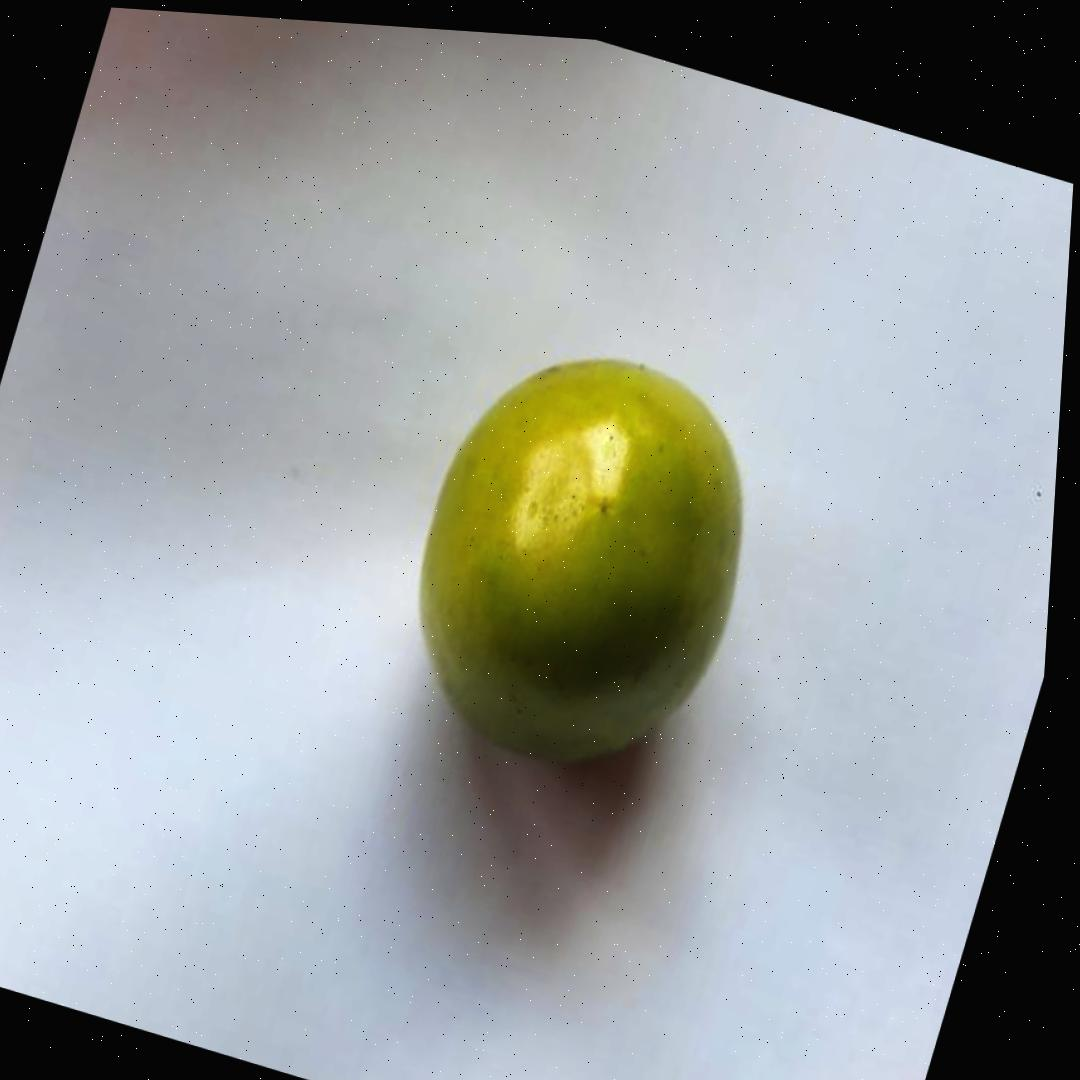mentah: (367, 305, 796, 808)
